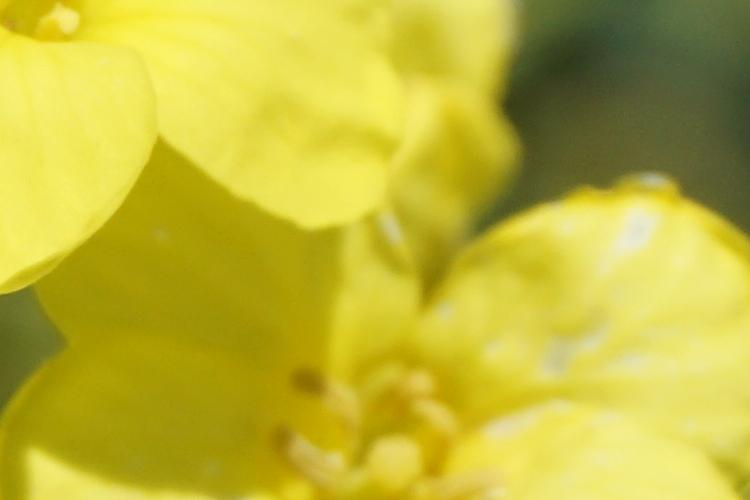yellow: (49, 189, 730, 496), (14, 6, 533, 230)
